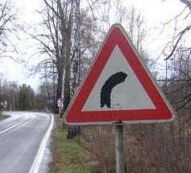Bend_to_right: (57, 22, 180, 128)
